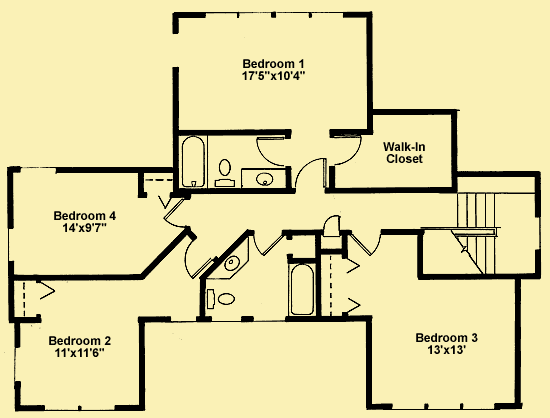door: (179, 235, 216, 278), (291, 155, 330, 195), (254, 134, 293, 169), (349, 228, 382, 259), (162, 197, 193, 227), (251, 229, 285, 256), (333, 137, 364, 165), (321, 214, 343, 238)
large sink: (202, 287, 237, 312), (212, 156, 236, 189)
small sink: (208, 237, 247, 278), (238, 166, 289, 189)
stairs: (416, 187, 532, 280)
tub: (176, 133, 212, 190), (286, 261, 318, 317)
windows: (204, 9, 347, 23), (388, 400, 501, 412), (43, 402, 119, 413), (17, 162, 58, 176), (12, 345, 25, 386), (4, 226, 18, 262)
